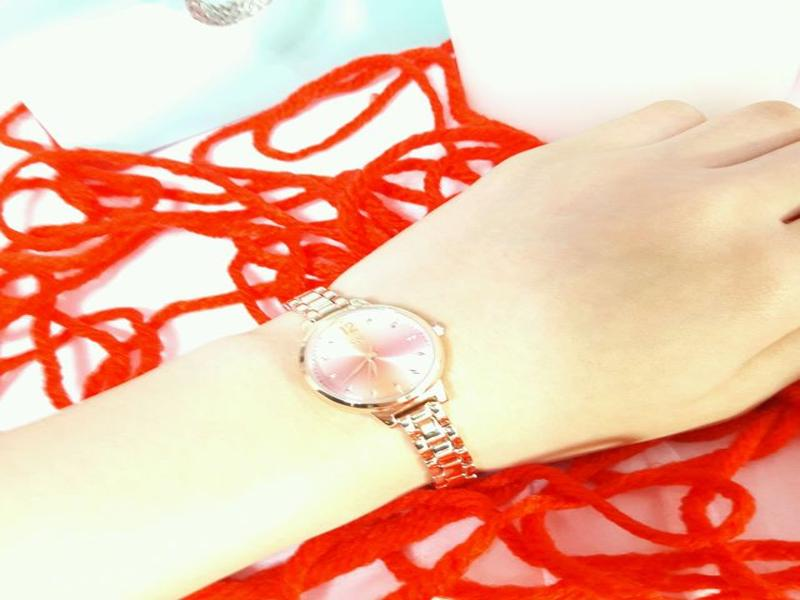watch: (290, 282, 481, 492)
